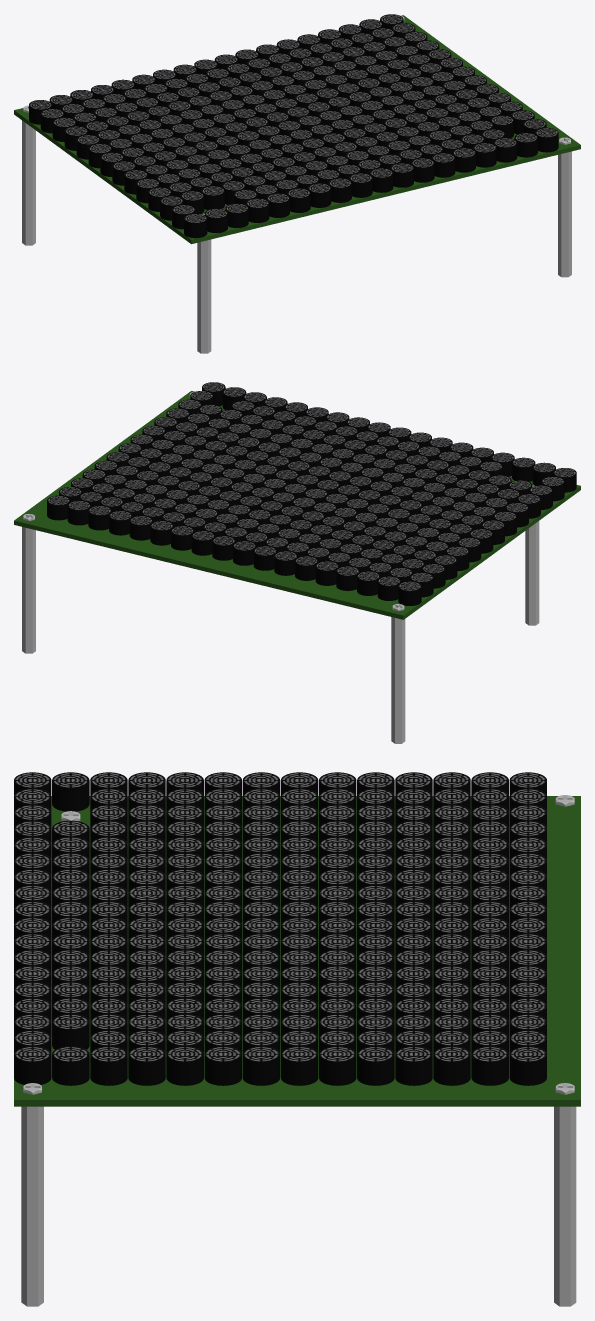
File: AUTD.glb
The picture shows the model from 3 angles, top to bottom: view 1: azimuth 30°, elevation 25°; view 2: azimuth 150°, elevation 25°; view 3: azimuth 270°, elevation 25°; orthographic projection. The views are drawn at different scales.
Visible parts, largest first — view 1: AUTD; view 2: AUTD; view 3: AUTD.
Part boxes in pixels (bbox=[...]): AUTD: bbox=[14, 14, 580, 353]; AUTD: bbox=[14, 382, 580, 743]; AUTD: bbox=[14, 772, 580, 1306].
Size of the model in its own units: 0.192 by 0.069 by 0.1514.
3 materials, 1 textured.
